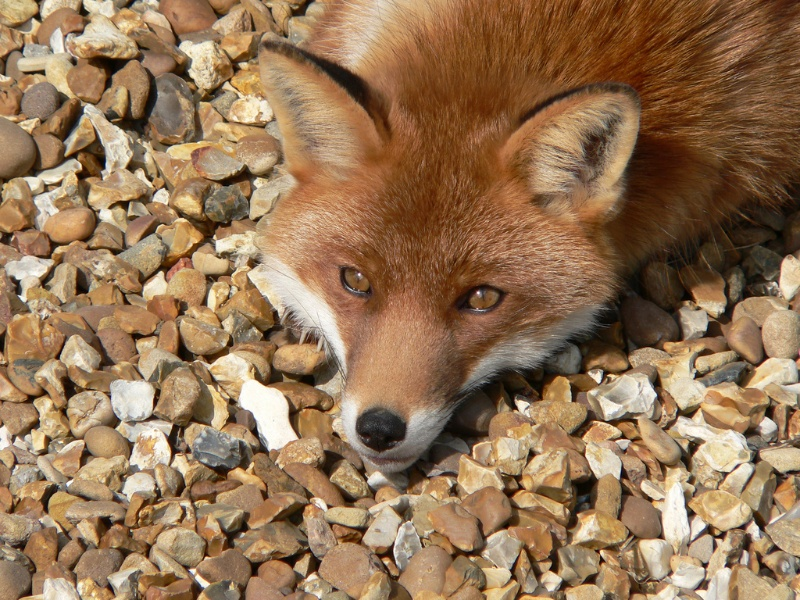fox: (253, 1, 797, 480)
